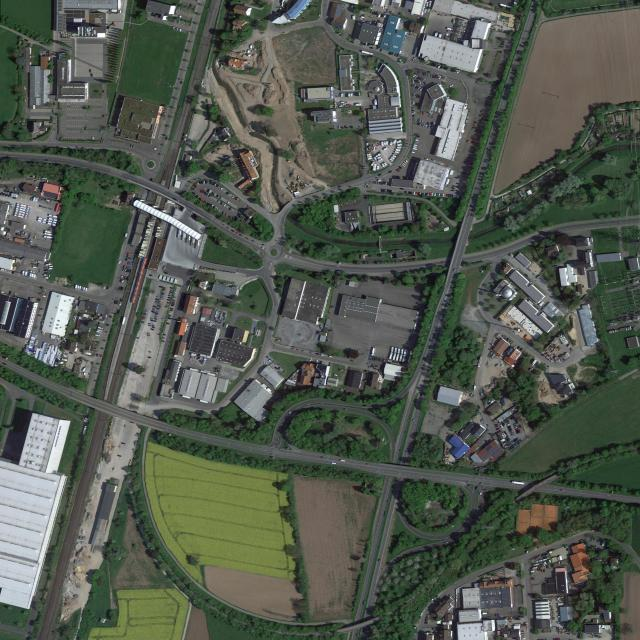large-vehicle: (511, 482, 525, 485), (82, 367, 87, 372), (447, 27, 453, 31), (97, 329, 103, 332), (96, 331, 102, 334), (98, 327, 103, 330), (95, 334, 100, 337), (447, 31, 452, 34), (331, 462, 337, 464), (340, 460, 346, 462), (152, 326, 155, 329), (150, 318, 154, 320)
small-vehicle: (274, 366, 279, 370), (2, 362, 7, 366), (412, 74, 417, 78), (455, 189, 460, 193), (449, 84, 454, 88), (418, 80, 422, 85), (401, 164, 406, 168), (402, 162, 407, 166), (268, 359, 272, 363), (486, 424, 490, 428), (5, 193, 9, 197), (151, 310, 155, 314), (194, 183, 198, 187), (417, 71, 421, 75), (198, 197, 202, 201), (220, 186, 224, 190), (227, 192, 231, 196), (233, 196, 237, 200), (225, 191, 229, 195), (226, 226, 230, 230), (231, 229, 235, 233), (223, 203, 227, 207), (200, 189, 204, 193), (212, 206, 216, 210), (211, 191, 215, 195), (202, 190, 206, 194), (477, 405, 481, 409), (512, 444, 516, 448), (515, 442, 519, 446), (516, 437, 520, 441), (412, 111, 416, 115), (420, 87, 424, 91), (417, 86, 421, 90), (415, 85, 419, 89), (422, 78, 426, 82), (404, 160, 408, 164), (405, 159, 409, 163), (377, 142, 381, 146), (291, 347, 296, 350), (309, 351, 314, 354), (321, 354, 326, 357), (343, 408, 348, 411), (500, 424, 503, 429), (152, 307, 157, 310), (22, 271, 25, 276), (33, 274, 36, 279), (75, 285, 78, 290), (79, 285, 82, 290), (25, 271, 28, 276), (24, 39, 29, 42), (129, 153, 134, 156), (150, 328, 155, 331), (148, 322, 153, 325), (143, 311, 148, 314), (154, 316, 159, 319), (155, 310, 160, 313), (99, 354, 104, 357), (507, 427, 512, 430), (209, 189, 212, 194), (214, 206, 217, 211), (412, 79, 415, 84), (398, 166, 403, 169), (422, 123, 425, 128), (172, 301, 176, 304), (173, 296, 177, 299), (309, 358, 312, 362), (288, 411, 292, 414), (322, 456, 326, 459), (153, 305, 157, 308), (170, 309, 174, 312), (157, 305, 161, 308), (159, 301, 163, 304), (160, 294, 164, 297), (168, 294, 172, 297), (372, 357, 375, 361), (539, 554, 542, 558), (505, 421, 508, 425), (506, 424, 510, 427), (507, 425, 511, 428), (330, 307, 334, 310), (479, 482, 483, 485), (475, 486, 478, 490), (520, 627, 524, 630), (545, 577, 548, 581), (508, 429, 512, 432), (32, 273, 34, 279), (81, 287, 84, 291), (83, 287, 86, 291), (85, 288, 88, 292), (118, 260, 121, 264), (124, 268, 127, 272), (126, 269, 129, 273), (127, 269, 130, 273), (119, 279, 122, 283), (152, 309, 156, 312), (130, 144, 133, 148), (3, 189, 7, 192), (6, 190, 10, 193), (9, 191, 13, 194), (2, 193, 6, 196), (106, 286, 109, 290), (119, 286, 122, 290), (141, 318, 145, 321), (142, 316, 146, 319), (143, 314, 147, 317), (143, 313, 147, 316), (144, 309, 148, 312), (166, 322, 170, 325), (155, 314, 159, 317), (161, 340, 165, 343), (35, 322, 39, 325), (119, 302, 122, 306), (114, 301, 117, 305), (37, 314, 41, 317), (148, 356, 152, 359), (509, 431, 513, 434), (179, 29, 182, 33), (179, 15, 182, 19), (193, 185, 197, 188), (213, 182, 216, 186), (371, 11, 374, 15), (396, 54, 399, 58), (394, 53, 397, 57), (438, 75, 441, 79), (434, 75, 437, 79), (457, 70, 460, 74), (453, 69, 457, 72), (443, 66, 446, 70), (441, 66, 445, 69), (440, 65, 443, 69), (438, 65, 441, 69), (433, 63, 436, 67), (431, 62, 434, 66), (360, 42, 364, 45), (217, 199, 220, 203), (196, 196, 200, 199), (232, 195, 235, 199), (222, 223, 226, 226), (235, 232, 239, 235), (245, 237, 249, 240), (251, 239, 255, 242), (194, 193, 197, 197), (216, 207, 219, 211), (229, 207, 232, 211), (217, 208, 220, 212), (211, 204, 214, 208), (219, 196, 223, 199), (207, 193, 210, 197), (205, 192, 208, 196), (510, 432, 514, 435), (414, 76, 418, 79), (511, 434, 515, 437), (513, 423, 517, 426), (513, 425, 517, 428), (508, 441, 512, 444), (507, 440, 511, 443), (510, 446, 513, 450), (514, 443, 517, 447), (400, 187, 404, 190), (422, 112, 425, 116), (412, 101, 415, 105), (416, 94, 419, 98), (413, 85, 417, 88), (414, 80, 417, 84), (421, 81, 424, 85), (419, 77, 423, 80), (416, 76, 420, 79), (428, 125, 431, 129), (378, 173, 382, 176), (388, 170, 392, 173), (396, 169, 400, 172), (424, 124, 427, 128), (375, 144, 379, 147), (421, 123, 424, 127), (301, 350, 306, 352), (164, 306, 169, 308), (559, 489, 564, 491), (495, 428, 500, 430), (30, 273, 32, 278), (78, 285, 80, 290), (44, 267, 49, 269), (161, 318, 166, 320), (69, 352, 74, 354), (359, 44, 364, 46), (456, 183, 461, 185), (173, 299, 176, 302), (156, 298, 159, 301), (162, 288, 165, 291), (157, 307, 160, 310), (125, 258, 128, 261), (132, 145, 135, 148), (8, 194, 11, 197), (36, 263, 39, 266), (121, 287, 124, 290), (120, 299, 123, 302), (162, 337, 165, 340), (370, 11, 373, 14), (373, 12, 376, 15), (338, 126, 341, 129), (172, 27, 175, 30), (198, 181, 201, 184), (209, 181, 212, 184), (211, 182, 214, 185), (455, 70, 458, 73), (445, 67, 448, 70), (435, 64, 438, 67), (351, 41, 354, 44), (352, 39, 355, 42), (352, 37, 355, 40), (214, 183, 217, 186), (207, 189, 210, 192), (200, 198, 203, 201), (202, 199, 205, 202), (205, 201, 208, 204), (216, 184, 219, 187), (217, 185, 220, 188), (235, 197, 238, 200), (239, 234, 242, 237), (173, 197, 176, 200), (195, 195, 198, 198), (227, 201, 230, 204), (220, 202, 223, 205), (213, 193, 216, 196), (216, 195, 219, 198), (208, 194, 211, 197), (509, 447, 512, 450), (517, 442, 520, 445), (418, 95, 421, 98), (416, 80, 419, 83), (423, 82, 426, 85), (398, 168, 401, 171), (419, 123, 422, 126), (168, 315, 172, 317), (295, 349, 299, 351), (315, 353, 319, 355), (329, 356, 333, 358), (367, 363, 371, 365), (374, 365, 378, 367), (169, 313, 173, 315), (156, 296, 160, 298), (155, 301, 159, 303), (161, 293, 165, 295), (170, 287, 174, 289), (169, 289, 173, 291), (169, 291, 173, 293), (168, 297, 172, 299), (167, 299, 171, 301), (170, 308, 174, 310), (374, 357, 376, 361), (533, 557, 535, 561), (535, 556, 537, 560), (543, 553, 545, 557), (495, 426, 499, 428), (494, 424, 498, 426), (388, 360, 392, 362), (328, 316, 332, 318), (328, 313, 332, 315), (330, 306, 334, 308), (444, 542, 448, 544), (521, 633, 525, 635), (522, 638, 526, 640), (541, 569, 543, 573), (127, 253, 129, 257), (125, 276, 127, 280), (126, 276, 128, 280), (103, 286, 105, 290), (44, 272, 48, 274), (107, 26, 109, 30), (59, 108, 63, 110), (100, 130, 102, 134), (92, 137, 94, 141), (45, 159, 49, 161), (31, 197, 33, 201), (15, 230, 19, 232), (152, 325, 156, 327), (148, 325, 152, 327), (141, 321, 145, 323), (150, 320, 154, 322), (154, 318, 158, 320), (155, 312, 159, 314), (116, 301, 118, 305), (39, 308, 43, 310), (34, 325, 38, 327), (34, 327, 38, 329), (136, 337, 140, 339), (342, 103, 346, 105), (430, 74, 432, 78), (437, 75, 439, 79), (369, 47, 373, 49), (192, 192, 196, 194), (225, 213, 227, 217), (222, 211, 224, 215), (419, 192, 421, 196), (423, 192, 425, 196), (427, 192, 429, 196), (429, 192, 431, 196), (434, 193, 436, 197), (437, 193, 439, 197), (442, 193, 444, 197), (450, 194, 452, 198), (452, 194, 454, 198), (457, 195, 459, 199), (450, 189, 454, 191), (451, 187, 455, 189), (452, 185, 456, 187), (456, 186, 460, 188), (409, 191, 411, 195), (405, 191, 407, 195), (514, 427, 518, 429), (454, 268, 456, 272), (441, 262, 445, 264), (383, 189, 385, 193), (385, 189, 387, 193), (387, 189, 389, 193), (455, 177, 459, 179), (419, 118, 421, 122), (413, 93, 415, 97), (383, 181, 385, 185), (385, 181, 387, 185), (418, 122, 420, 126), (172, 303, 175, 305), (316, 360, 318, 363), (366, 463, 369, 465), (413, 418, 415, 421), (168, 316, 171, 318), (160, 300, 163, 302), (163, 287, 166, 289), (159, 286, 162, 288), (169, 293, 172, 295), (167, 302, 170, 304), (376, 358, 378, 361), (378, 358, 380, 361), (537, 556, 539, 559), (541, 554, 543, 557), (545, 553, 547, 556), (595, 545, 597, 548), (502, 423, 504, 426), (504, 423, 506, 426), (552, 564, 554, 567), (557, 562, 559, 565), (480, 492, 482, 495), (378, 559, 380, 562), (543, 569, 545, 572), (123, 268, 125, 271), (121, 276, 123, 279), (123, 276, 125, 279), (122, 280, 124, 283), (91, 74, 93, 77), (34, 236, 36, 239), (44, 269, 47, 271), (154, 320, 157, 322), (163, 334, 166, 336), (96, 354, 98, 357), (147, 332, 150, 334), (375, 20, 377, 23), (176, 28, 178, 31), (178, 21, 180, 24), (192, 188, 195, 190), (197, 182, 199, 185), (201, 181, 203, 184), (203, 181, 205, 184), (205, 181, 207, 184), (207, 181, 209, 184), (428, 74, 430, 77), (365, 42, 367, 45), (204, 200, 206, 203), (262, 244, 265, 246), (232, 217, 234, 220), (230, 217, 232, 220), (228, 216, 230, 219), (425, 73, 427, 76), (411, 192, 413, 195), (416, 192, 418, 195), (417, 192, 419, 195), (421, 193, 423, 196), (425, 193, 427, 196), (431, 193, 433, 196), (446, 194, 448, 197), (448, 194, 450, 197), (414, 192, 416, 195), (381, 189, 383, 192), (390, 190, 392, 193), (373, 181, 375, 184), (432, 126, 434, 129), (430, 126, 432, 129), (377, 182, 379, 185), (379, 182, 381, 185), (381, 182, 383, 185), (387, 182, 389, 185), (112, 22, 114, 25), (160, 297, 164, 298), (551, 565, 553, 567), (559, 561, 560, 565), (522, 636, 526, 637), (531, 578, 535, 579), (531, 573, 535, 574), (147, 335, 151, 336), (439, 193, 440, 197), (441, 193, 442, 197), (389, 189, 390, 193), (434, 122, 435, 126), (411, 108, 415, 109), (171, 305, 174, 306), (162, 291, 165, 292), (521, 631, 524, 632), (109, 26, 110, 29), (90, 70, 91, 73), (158, 334, 161, 335), (94, 348, 97, 349), (376, 181, 377, 184)
